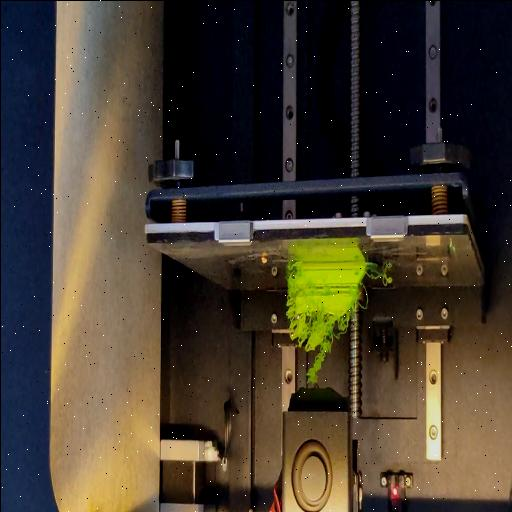spaghetti: (285, 309, 349, 386), (368, 272, 392, 284), (359, 281, 367, 313), (286, 257, 296, 273)
